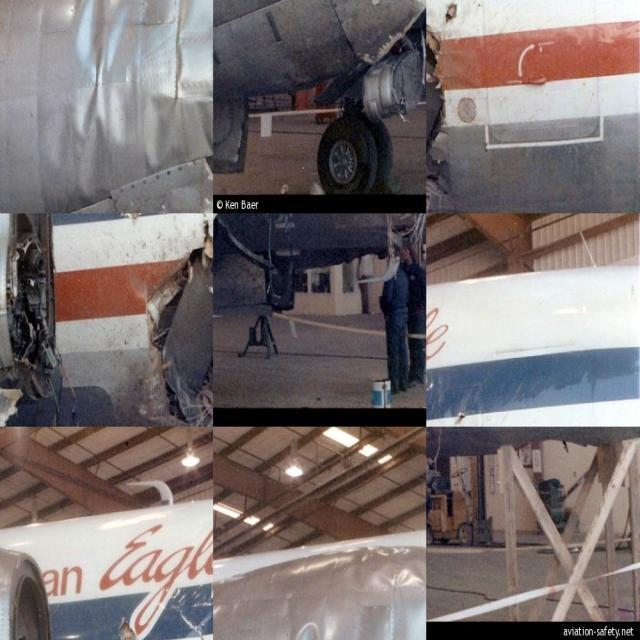dent: (47, 1, 213, 208)
